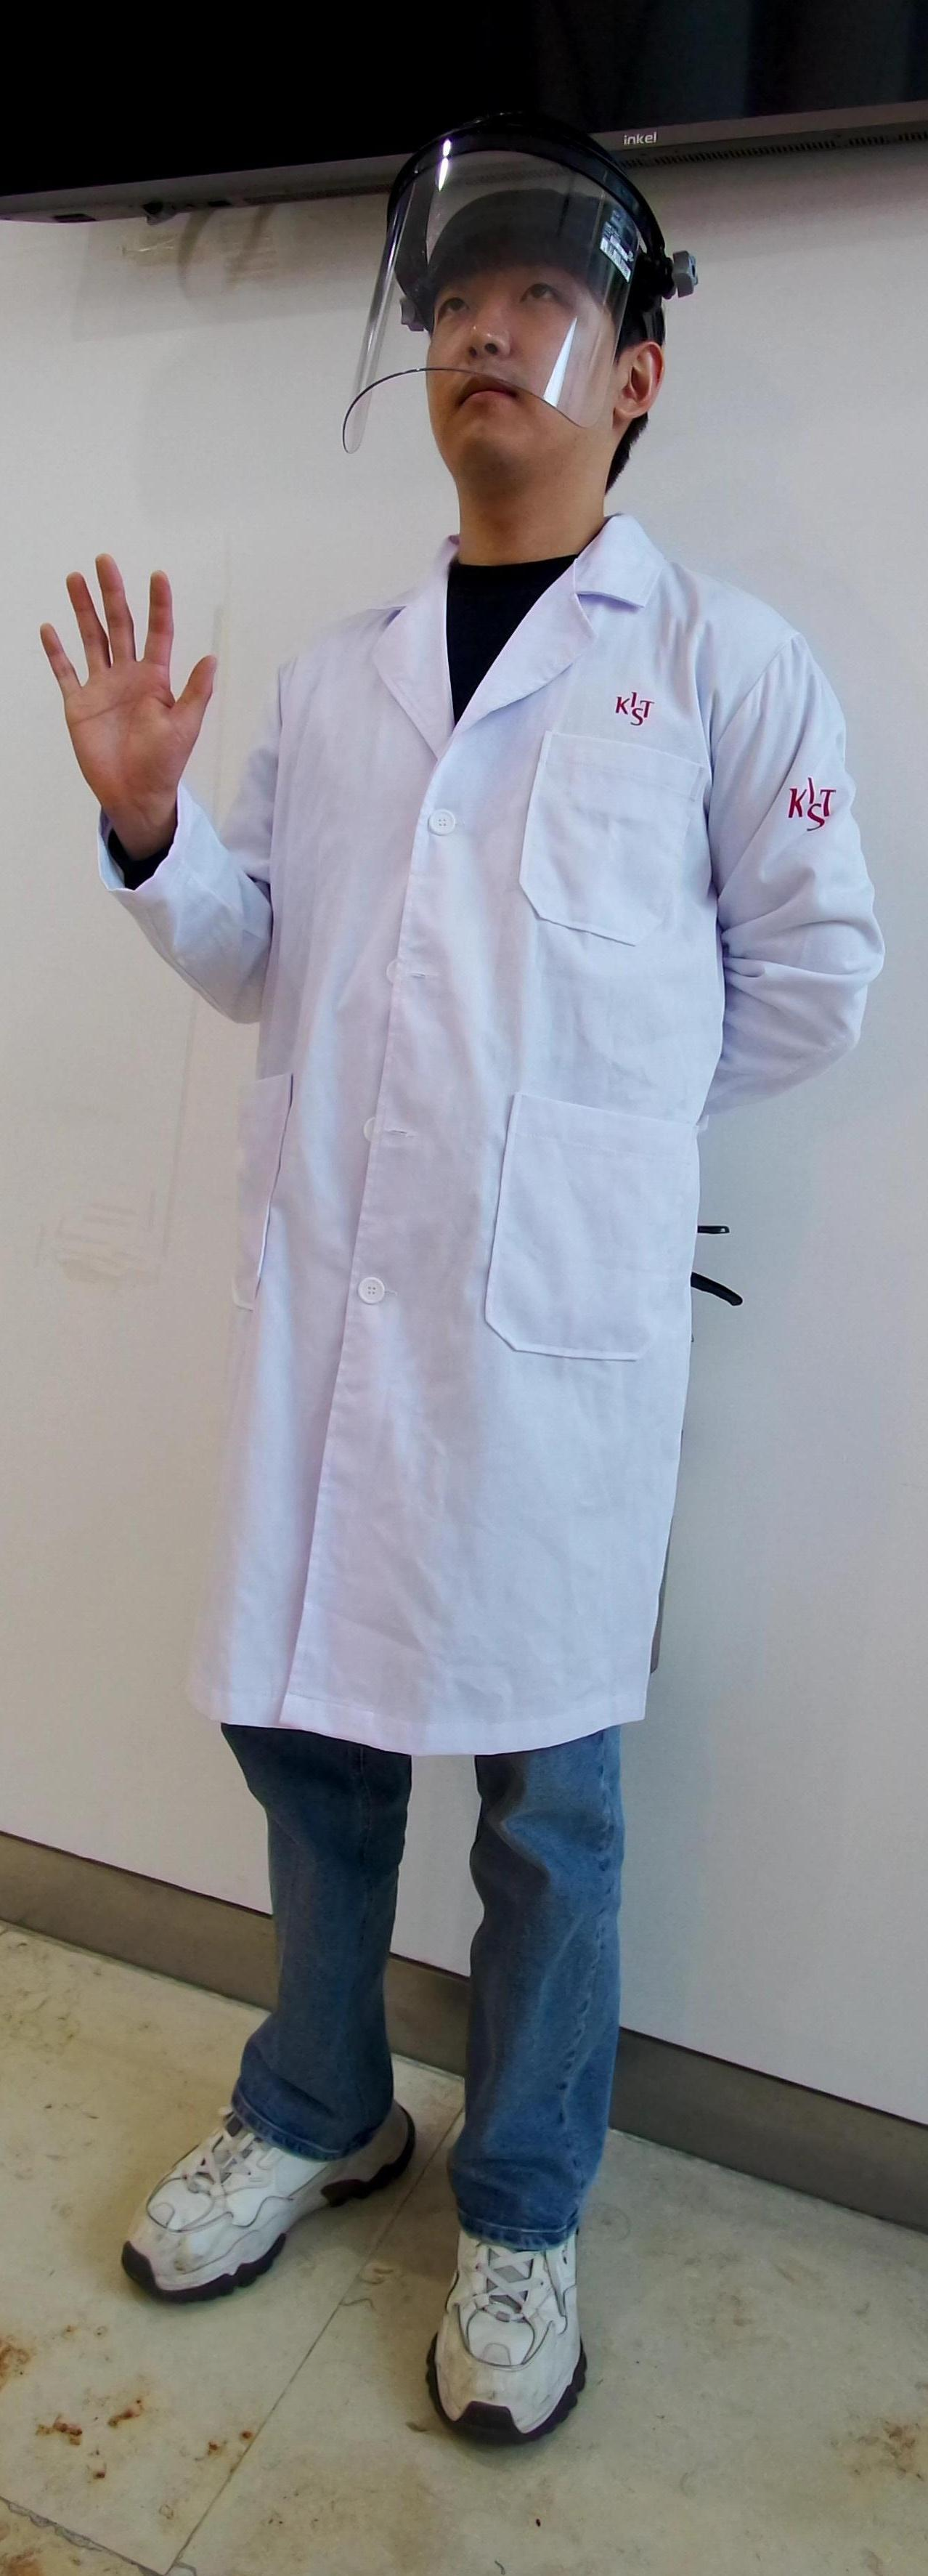lab_coat: (241, 619, 846, 1700)
